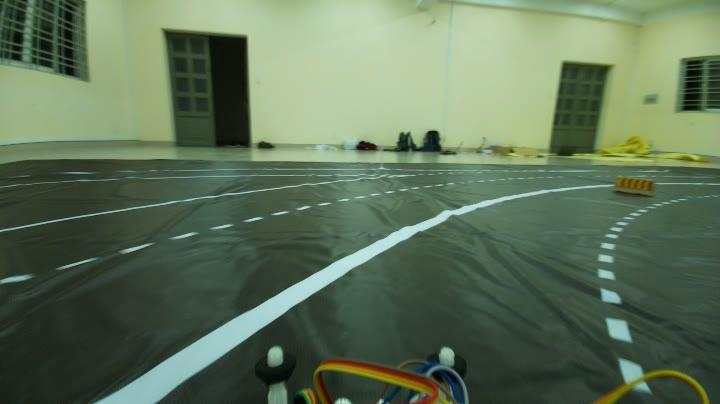roadblock: (609, 174, 658, 200)
